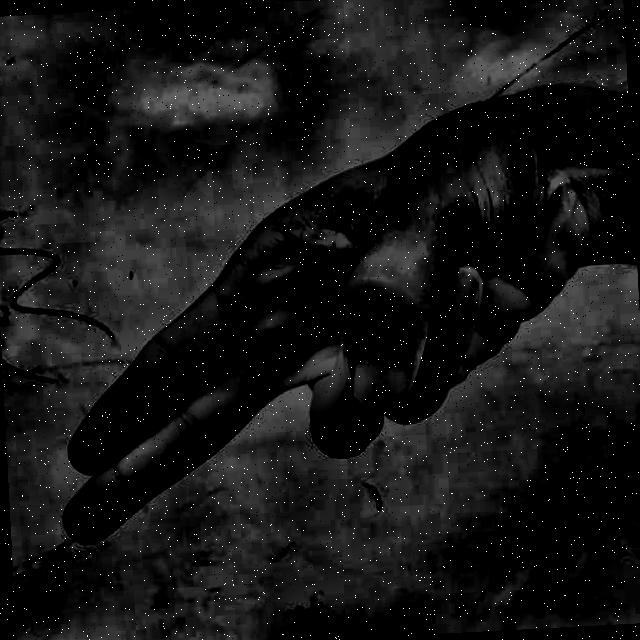Ha: (22, 96, 596, 612)
